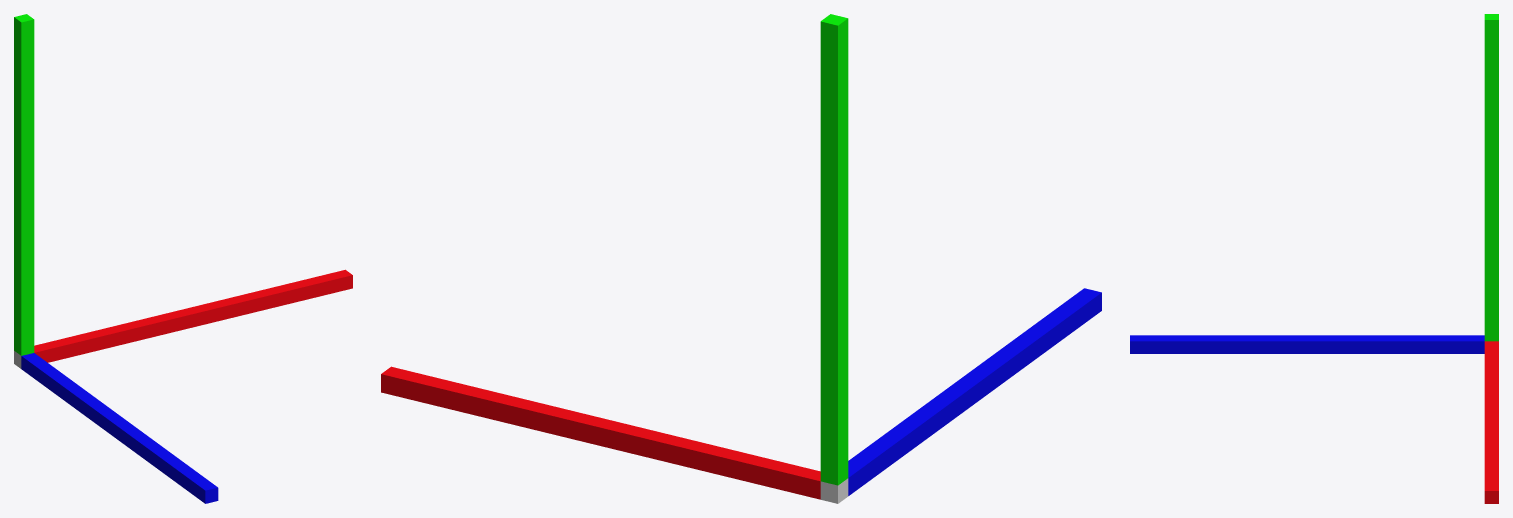
The model's file is xyz.glb.
3 views of the same model, side by side, from view 1: azimuth 30°, elevation 25°; view 2: azimuth 150°, elevation 25°; view 3: azimuth 270°, elevation 25° (orthographic). The views are drawn at different scales.
Visible parts, largest first — view 1: Cube; view 2: Cube; view 3: Cube.
Boxes of the visible parts, <box> form: Cube: <box>14,14,352,503</box>; Cube: <box>381,14,1101,503</box>; Cube: <box>1130,14,1498,503</box>.
Size of the model in its own units: 52 by 52 by 52.
